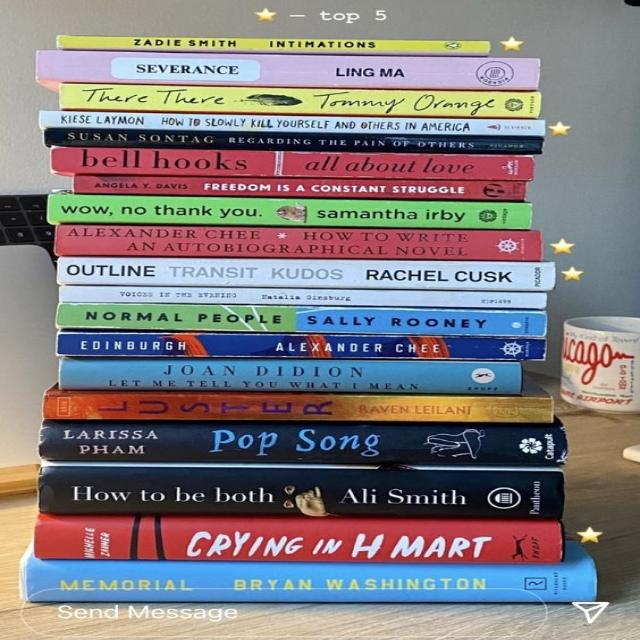book: (39, 467, 563, 518), (19, 561, 596, 603), (36, 520, 561, 564), (43, 422, 565, 464), (37, 51, 541, 90), (56, 225, 542, 261), (46, 195, 533, 229), (58, 258, 555, 291), (61, 84, 540, 118), (57, 304, 546, 336), (51, 148, 535, 180), (44, 394, 553, 423), (59, 361, 520, 393), (56, 333, 545, 360), (39, 111, 545, 136), (44, 129, 544, 154), (59, 286, 547, 310), (73, 176, 527, 201), (57, 34, 491, 54)
